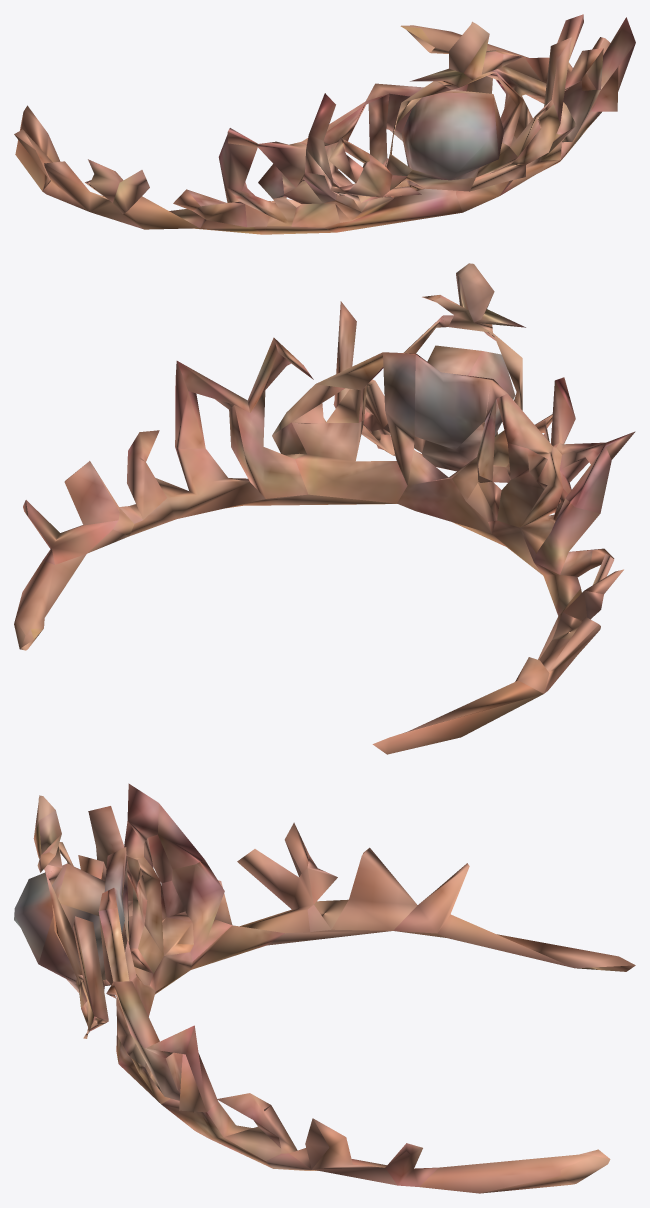
The picture shows the model from 3 angles, top to bottom: view 1: azimuth 30°, elevation 25°; view 2: azimuth 150°, elevation 25°; view 3: azimuth 270°, elevation 25°; orthographic projection. The views are drawn at different scales.
Parts seen in each view (by area): view 1: Pink-Tiara-20; view 2: Pink-Tiara-20; view 3: Pink-Tiara-20.
Part boxes in pixels (box(x1,y1,x2,y2)): Pink-Tiara-20: box(14, 14, 635, 234); Pink-Tiara-20: box(14, 263, 635, 754); Pink-Tiara-20: box(14, 783, 635, 1193).
Size of the model in its own units: 0.2727 by 0.1201 by 0.2407.
Materials: 1 (1 with a texture image).
